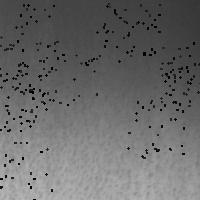pitted_surface: (5, 56, 195, 194), (127, 100, 183, 157), (0, 142, 53, 200), (43, 54, 99, 108), (96, 9, 154, 60), (0, 0, 56, 50), (0, 74, 49, 130), (0, 42, 43, 99), (160, 47, 200, 105), (169, 39, 200, 98), (103, 0, 159, 32), (170, 55, 200, 113)
